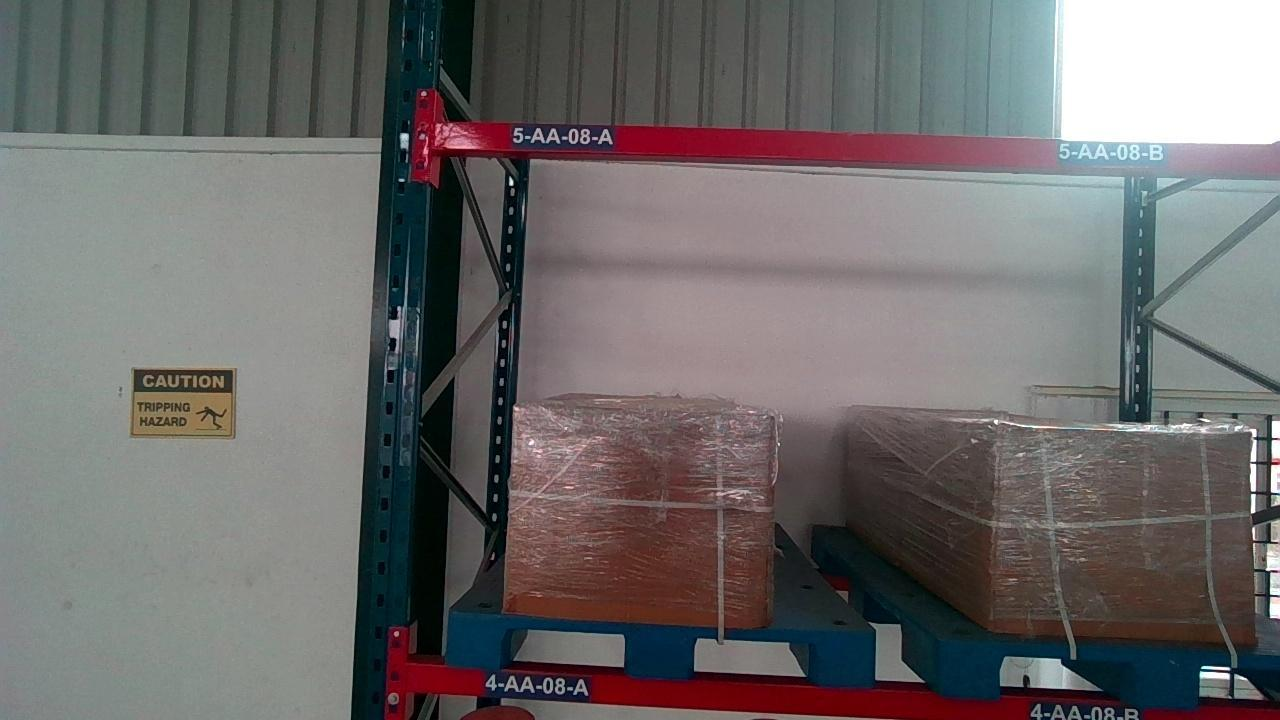h_rack: (407, 665, 1280, 720), (428, 122, 1280, 177)
small_pallet: (437, 618, 879, 677), (952, 645, 1280, 706)
